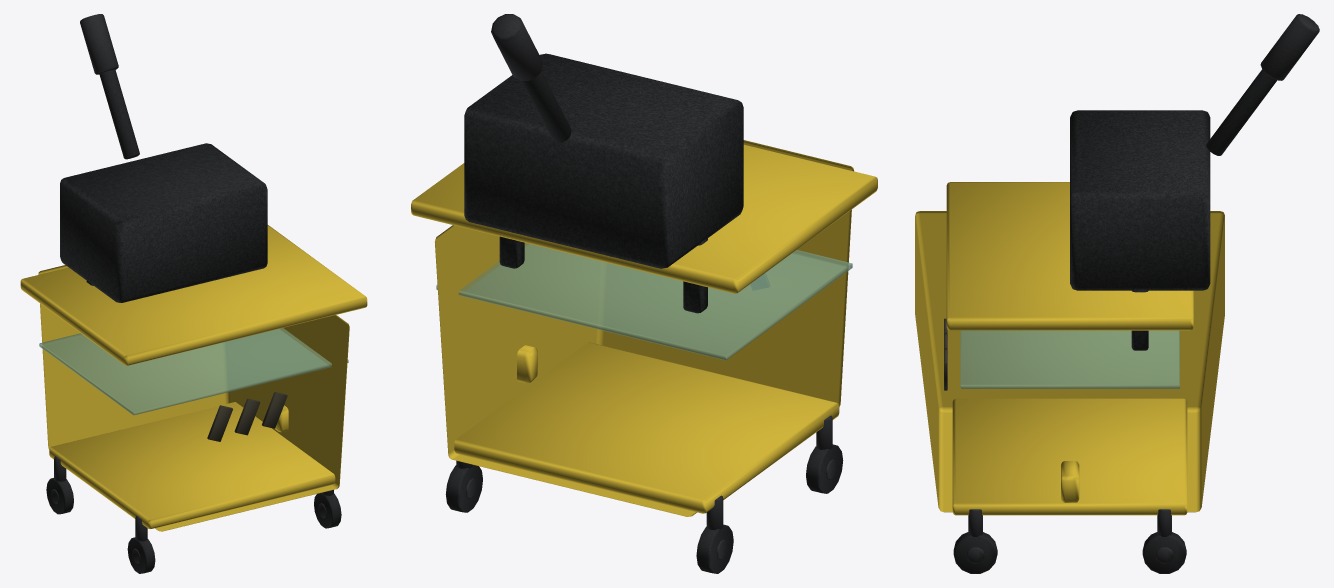
The model's file is asset_073_mop_bucket_and_wringer.glb.
3 views of the same model, side by side, from view 1: azimuth 30°, elevation 25°; view 2: azimuth 150°, elevation 25°; view 3: azimuth 270°, elevation 25° (orthographic). The views are drawn at different scales.
Visible parts, largest first — view 1: MESH_BucketShell, MESH_WringerCage, MESH_BucketWater, MESH_BucketCasters, MESH_WringerLeverArm, MESH_WringerLeverGrip; view 2: MESH_BucketShell, MESH_WringerCage, MESH_BucketWater, MESH_BucketCasters, MESH_WringerLeverGrip, MESH_WringerLeverArm; view 3: MESH_BucketShell, MESH_WringerCage, MESH_BucketWater, MESH_BucketCasters, MESH_WringerLeverGrip, MESH_WringerLeverArm.
Boxes of the visible parts, x1,y1,x2,y2 form: MESH_BucketShell: [20, 225, 367, 531]; MESH_WringerCage: [60, 143, 267, 302]; MESH_BucketWater: [39, 328, 348, 415]; MESH_BucketCasters: [46, 456, 341, 573]; MESH_WringerLeverArm: [99, 69, 139, 159]; MESH_WringerLeverGrip: [80, 14, 118, 74]; MESH_BucketShell: [411, 140, 877, 516]; MESH_WringerCage: [464, 53, 743, 313]; MESH_BucketWater: [436, 243, 852, 360]; MESH_BucketCasters: [445, 415, 843, 573]; MESH_WringerLeverGrip: [491, 14, 542, 80]; MESH_WringerLeverArm: [522, 71, 571, 142]; MESH_BucketShell: [915, 182, 1224, 515]; MESH_WringerCage: [1070, 110, 1210, 350]; MESH_BucketWater: [960, 330, 1179, 388]; MESH_BucketCasters: [953, 509, 1186, 573]; MESH_WringerLeverGrip: [1260, 14, 1319, 80]; MESH_WringerLeverArm: [1206, 69, 1276, 155].
Bounding box in the file's own units: 0.55 × 0.9101 × 0.6637.
Materials: 6 (2 with a texture image).
